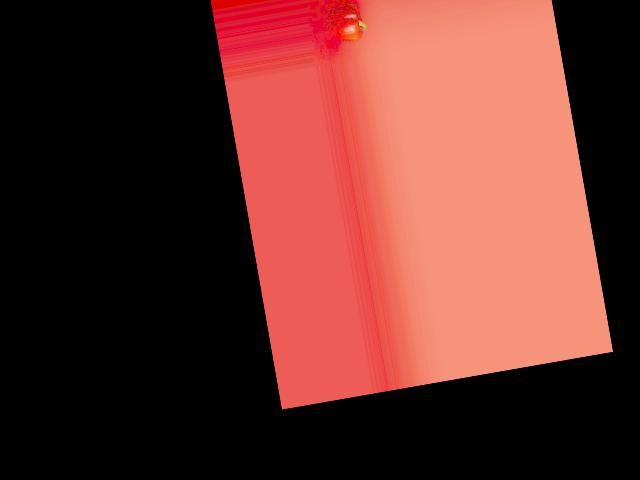bell_pepper: (322, 1, 369, 44)
